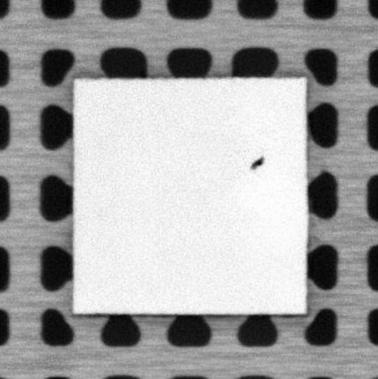DIE_INK: (248, 154, 266, 171)
